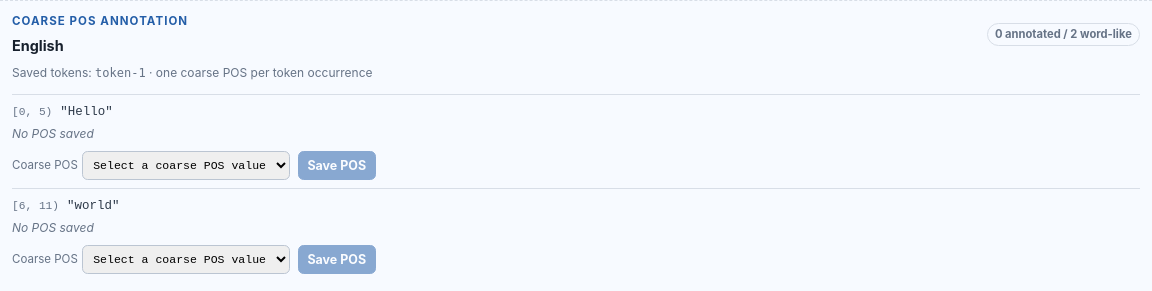
PosAnnotationPanel › shows the unannotated state and disables save until a value is chosen
expect the text "No POS saved" is shown 2 times: met, box [12,125,94,143]; [12,219,94,237]
expect the button "Save POS" below "\"Hello\"" is disabled: met, box [298,151,376,180]
Select "NOUN" in the dropdown named "Coarse POS for Hello" at [186, 166], box [82,151,290,180]
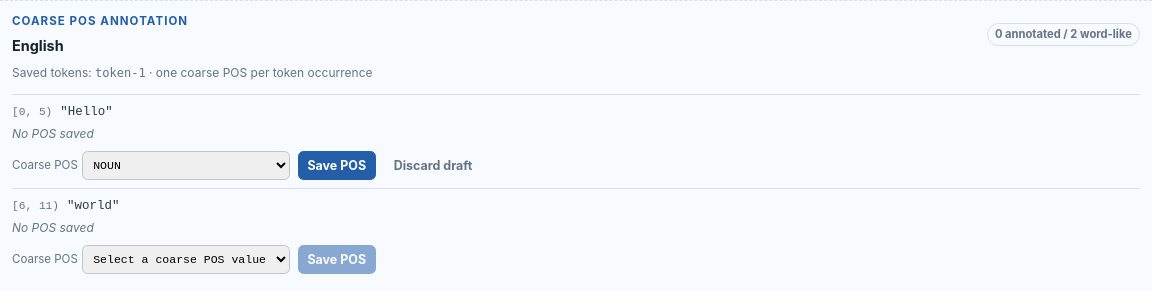
expect the button "Save POS" below "\"Hello\"" is enabled: met, box [298,151,376,180]
